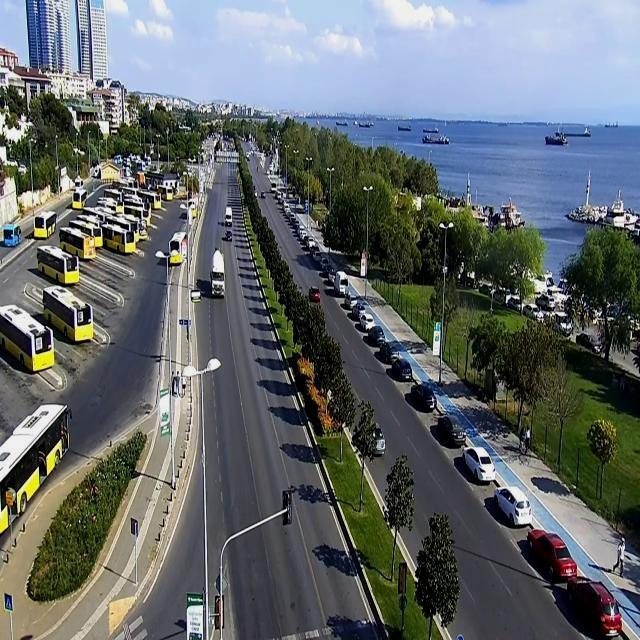Bus: (0, 404, 71, 549), (0, 302, 55, 370), (42, 286, 92, 342), (37, 245, 80, 285), (58, 226, 97, 265), (104, 220, 139, 255), (67, 219, 104, 248), (119, 212, 148, 242), (123, 203, 151, 230), (169, 232, 188, 265), (34, 210, 56, 238), (2, 222, 23, 249), (137, 188, 163, 209), (102, 186, 125, 204), (71, 187, 88, 211), (82, 207, 109, 222), (77, 212, 105, 226), (95, 199, 118, 213), (157, 183, 174, 201), (186, 198, 197, 218), (119, 186, 138, 195)
Car: (564, 575, 624, 639), (528, 525, 577, 579), (492, 484, 534, 528), (461, 446, 497, 484), (436, 414, 467, 446), (410, 383, 438, 412), (576, 332, 604, 354), (392, 357, 414, 381), (522, 303, 544, 324), (366, 324, 387, 344), (380, 340, 399, 362), (535, 292, 556, 310), (308, 285, 322, 303), (507, 296, 522, 312), (352, 303, 366, 320), (344, 292, 358, 308), (477, 282, 494, 295), (360, 312, 374, 327), (327, 269, 338, 284), (320, 256, 330, 270), (224, 229, 233, 242), (313, 251, 322, 263), (306, 236, 315, 248), (310, 244, 320, 254)
Truck: (210, 251, 227, 298)
Van: (334, 271, 350, 296), (224, 204, 233, 227)
